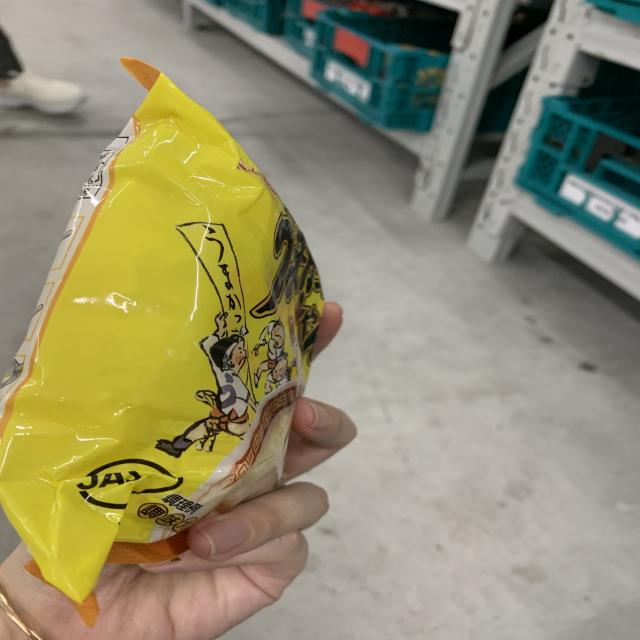object_name: (49, 75, 275, 527)
